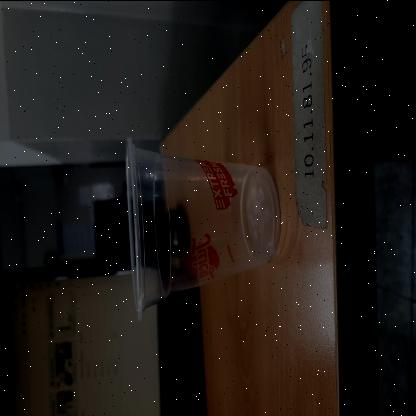Others: (124, 138, 280, 320)
